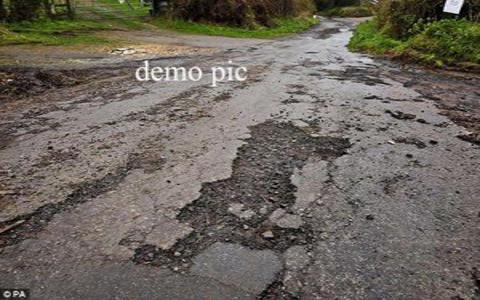patchy roads: (126, 108, 333, 277)
